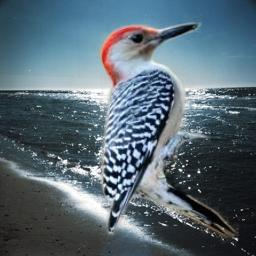Woodpecker: (87, 13, 247, 253)
